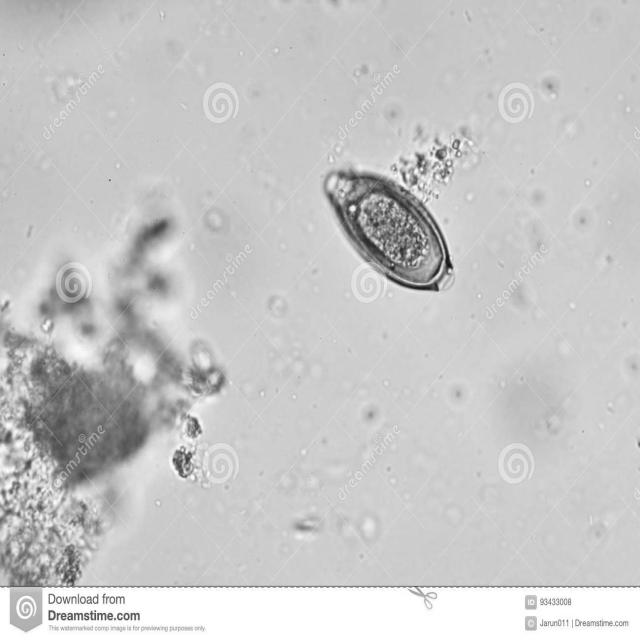Trichuris Trichiura: (314, 160, 460, 306)
